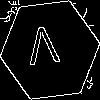V: (25, 25, 62, 75)
